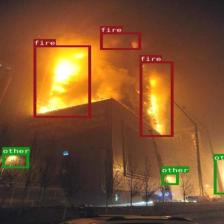fire: (33, 45, 91, 117), (139, 61, 173, 136), (100, 32, 140, 50)
